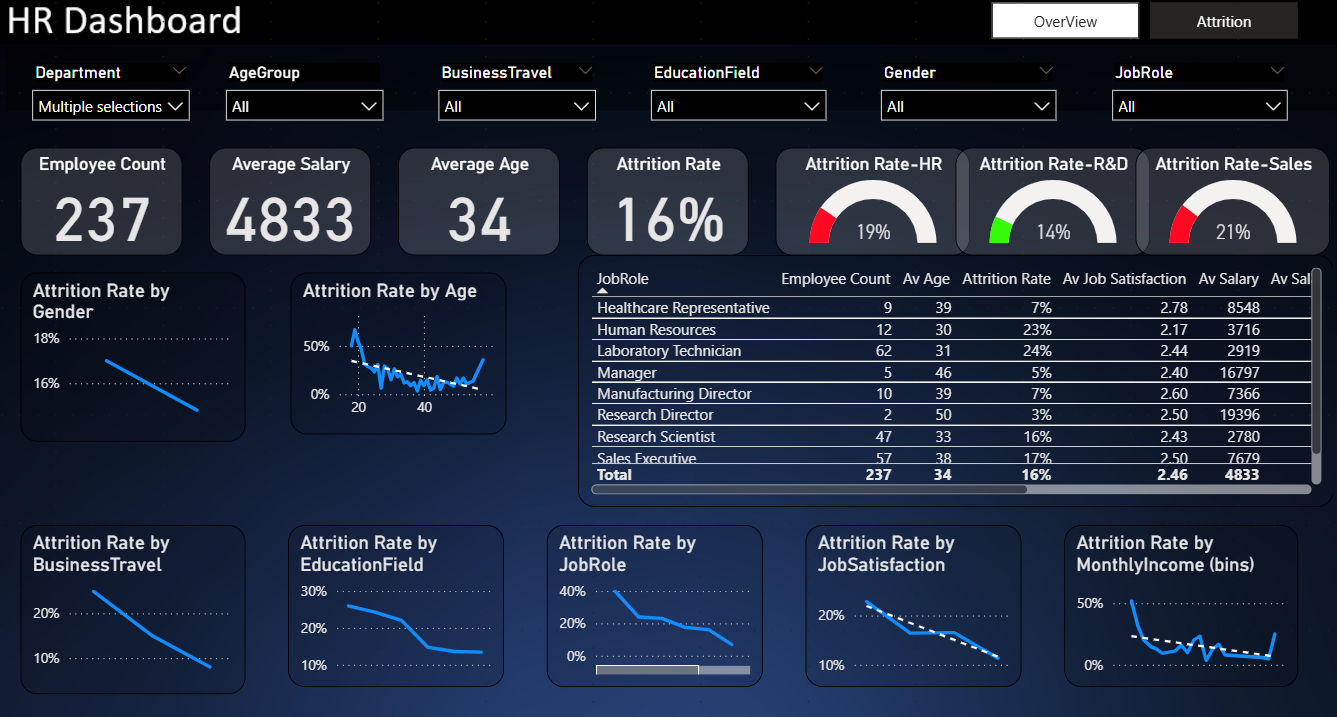

The dashboard page shown, as its layout file describes it:
{"tool":"powerbi","page":{"name":"Attrition","canvas":[1280,720],"ordinal":1},"visuals":[{"type":"slicer","fields":{"Values":["Department.Department"]},"box":[64,64,160,64],"z":0},{"type":"card","title":"Employee Count","fields":{"Values":["HR_Analytics.Employee Count"]},"box":[64,144.5,144,96],"z":1000},{"type":"slicer","fields":{"Values":["HR_Analytics.Gender"]},"box":[819.2,64,176,64],"z":2000},{"type":"slicer","fields":{"Values":["HR_Analytics.JobRole"]},"box":[1024,64,176,64],"z":3000},{"type":"slicer","fields":{"Values":["HR_Analytics.EducationField"]},"box":[614.4,64,176,64],"z":4000},{"type":"slicer","fields":{"Values":["HR_Analytics.BusinessTravel"]},"box":[425.6,64,160,64],"z":5000},{"type":"slicer","fields":{"Values":["HR_Analytics.AgeGroup"]},"box":[236.8,64,160,64],"z":6000},{"type":"card","title":"Attrition Rate","fields":{"Values":["HR_Analytics.Attrition Rate"]},"box":[568,144.5,144,96],"z":7000},{"type":"card","title":"Average Age","fields":{"Values":["HR_Analytics.Average Age"]},"box":[400,144.5,144,96],"z":8000},{"type":"card","title":"Average Salary","fields":{"Values":["HR_Analytics.Average Salary"]},"box":[232,144.5,144,96],"z":9000},{"type":"tableEx","fields":{"Values":["HR_Analytics.JobRole","HR_Analytics.Employee Count","HR_Analytics.Average Age","HR_Analytics.Attrition Rate","HR_Analytics.Average Job Satisfaction","HR_Analytics.Average Salary","HR_Analytics.Average Salary Hike","HR_Analytics.Gender Ratio","HR_Analytics.OverTime %","HR_Analytics.Average Years","HR_Analytics.Attrition Count"]},"box":[560,240,672,224],"z":10000},{"type":"gauge","title":"Attrition Rate-HR","fields":{"Y":["HR_Analytics.Attrition Rate"]},"box":[736,144,173,96],"z":11000},{"type":"gauge","title":"Attrition Rate-R&D","fields":{"Y":["HR_Analytics.Attrition Rate"]},"box":[896,144,173,96],"z":12000},{"type":"gauge","title":"Attrition Rate-Sales","fields":{"Y":["HR_Analytics.Attrition Rate"]},"box":[1056,144,173,96],"z":13000},{"type":"lineChart","fields":{"Y":["HR_Analytics.Attrition Rate"],"Category":["HR_Analytics.Age"]},"box":[304,256,192,144],"z":14000},{"type":"lineChart","fields":{"Y":["HR_Analytics.Attrition Rate"],"Category":["HR_Analytics.BusinessTravel"]},"box":[64,480,200,150],"z":15000},{"type":"lineChart","fields":{"Y":["HR_Analytics.Attrition Rate"],"Category":["HR_Analytics.EducationField"]},"box":[302,480,192,144],"z":16000},{"type":"lineChart","fields":{"Y":["HR_Analytics.Attrition Rate"],"Category":["HR_Analytics.Gender"]},"box":[64,256,200,150],"z":17000},{"type":"lineChart","fields":{"Y":["HR_Analytics.Attrition Rate"],"Category":["HR_Analytics.JobRole"]},"box":[532,480,192,144],"z":18000},{"type":"lineChart","fields":{"Y":["HR_Analytics.Attrition Rate"],"Category":["HR_Analytics.JobSatisfaction"]},"box":[762,480,192,144],"z":19000},{"type":"lineChart","fields":{"Y":["HR_Analytics.Attrition Rate"],"Category":["HR_Analytics.MonthlyIncome (bins)"]},"box":[992,480,208,144],"z":20000},{"type":"pageNavigator","box":[928,16,272,32],"z":21000}]}

Visuals, with their boxes on the page's 1280x720 design canvas (x1, y1, x2, y2). These are canvas units, not pixel positions in the 1337x717 screenshot, which may show the page scaled, cropped or inside an application window:
slicer - Department.Department: [x1=64, y1=64, x2=224, y2=128]
"Employee Count" card: [x1=64, y1=144, x2=208, y2=240]
slicer - HR_Analytics.Gender: [x1=819, y1=64, x2=995, y2=128]
slicer - HR_Analytics.JobRole: [x1=1024, y1=64, x2=1200, y2=128]
slicer - HR_Analytics.EducationField: [x1=614, y1=64, x2=790, y2=128]
slicer - HR_Analytics.BusinessTravel: [x1=426, y1=64, x2=586, y2=128]
slicer - HR_Analytics.AgeGroup: [x1=237, y1=64, x2=397, y2=128]
"Attrition Rate" card: [x1=568, y1=144, x2=712, y2=240]
"Average Age" card: [x1=400, y1=144, x2=544, y2=240]
"Average Salary" card: [x1=232, y1=144, x2=376, y2=240]
tableEx - HR_Analytics.JobRole x HR_Analytics.Employee Count: [x1=560, y1=240, x2=1232, y2=464]
"Attrition Rate-HR" gauge: [x1=736, y1=144, x2=909, y2=240]
"Attrition Rate-R&D" gauge: [x1=896, y1=144, x2=1069, y2=240]
"Attrition Rate-Sales" gauge: [x1=1056, y1=144, x2=1229, y2=240]
lineChart - HR_Analytics.Attrition Rate x HR_Analytics.Age: [x1=304, y1=256, x2=496, y2=400]
lineChart - HR_Analytics.Attrition Rate x HR_Analytics.BusinessTravel: [x1=64, y1=480, x2=264, y2=630]
lineChart - HR_Analytics.Attrition Rate x HR_Analytics.EducationField: [x1=302, y1=480, x2=494, y2=624]
lineChart - HR_Analytics.Attrition Rate x HR_Analytics.Gender: [x1=64, y1=256, x2=264, y2=406]
lineChart - HR_Analytics.Attrition Rate x HR_Analytics.JobRole: [x1=532, y1=480, x2=724, y2=624]
lineChart - HR_Analytics.Attrition Rate x HR_Analytics.JobSatisfaction: [x1=762, y1=480, x2=954, y2=624]
lineChart - HR_Analytics.Attrition Rate x HR_Analytics.MonthlyIncome (bins): [x1=992, y1=480, x2=1200, y2=624]
pageNavigator: [x1=928, y1=16, x2=1200, y2=48]
